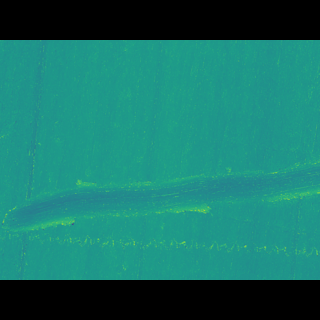Loch: (0, 151, 320, 215)
